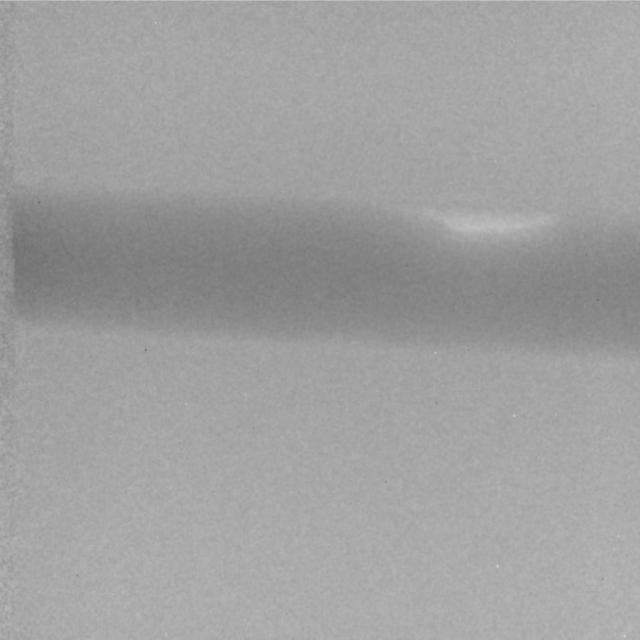unfused: (427, 208, 555, 245)
